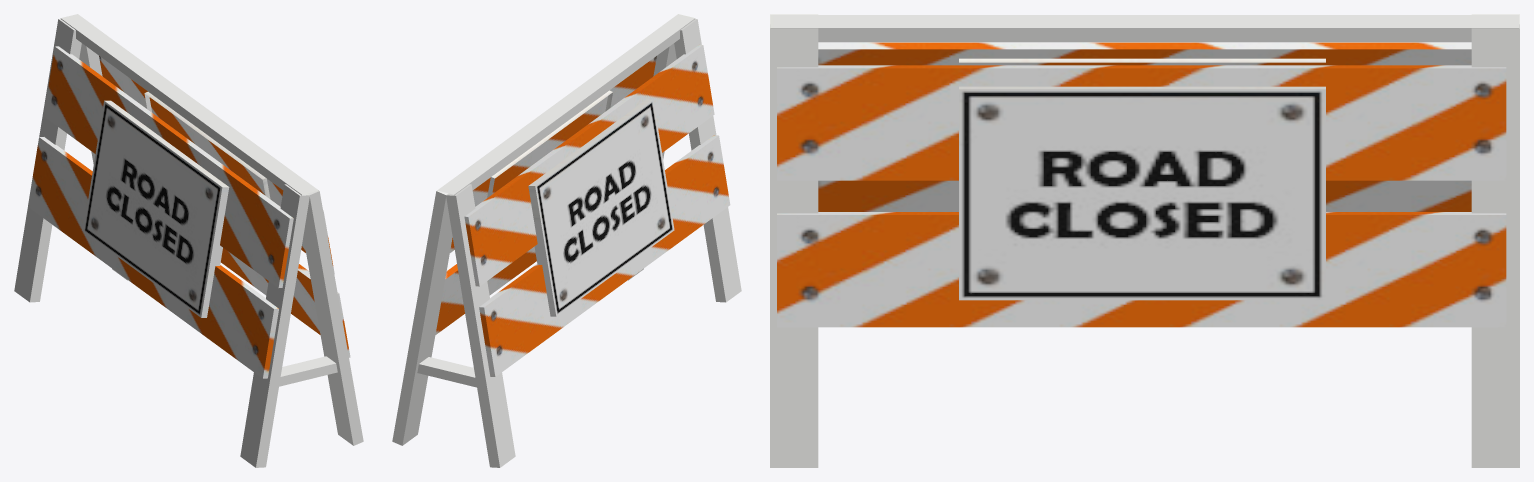
File: Road Closed Barrier.fbx
3 views of the same model, side by side, from view 1: azimuth 30°, elevation 25°; view 2: azimuth 150°, elevation 25°; view 3: azimuth 270°, elevation 25° (orthographic). The views are drawn at different scales.
Visible parts, largest first — view 1: Road_Closed_Barrier; view 2: Road_Closed_Barrier; view 3: Road_Closed_Barrier.
Boxes of the visible parts, bbox=[...] form: Road_Closed_Barrier: bbox=[14, 14, 363, 467]; Road_Closed_Barrier: bbox=[392, 14, 741, 467]; Road_Closed_Barrier: bbox=[770, 14, 1519, 467].
Size of the model in its own units: 6.56 by 15.33 by 25.46.
1 material, 1 textured.
